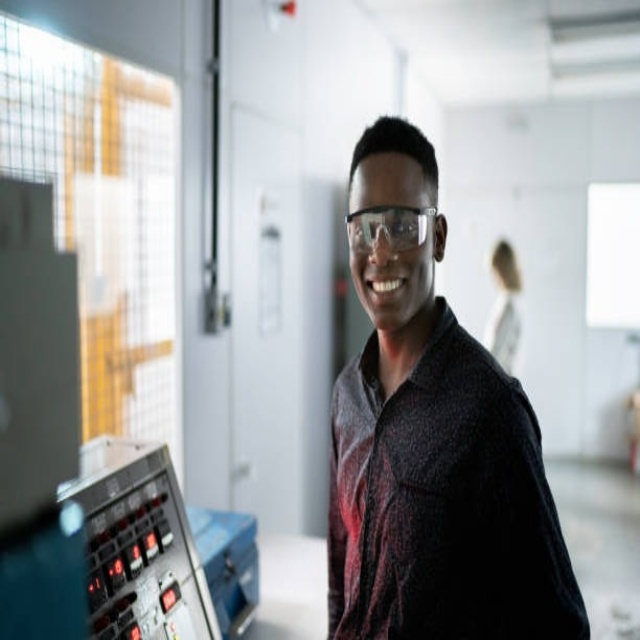Gafas: (345, 205, 438, 253)
Sin_mascara: (359, 265, 410, 312)
